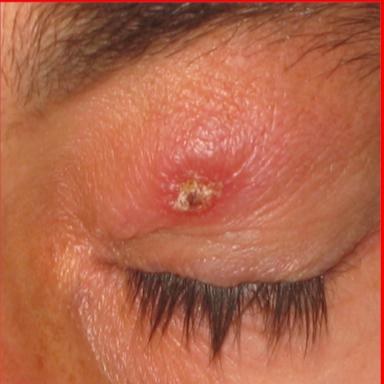Leishmanios: (165, 160, 228, 212)
